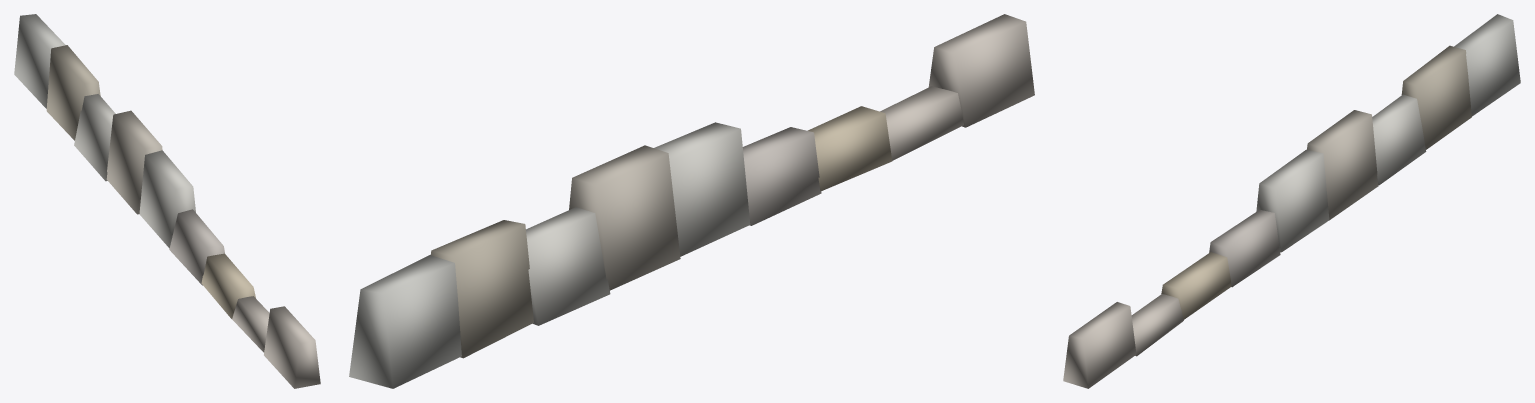
File: farm_7_26_far.glb
3 views of the same model, side by side, from view 1: azimuth 30°, elevation 25°; view 2: azimuth 150°, elevation 25°; view 3: azimuth 330°, elevation 25° (orthographic). The views are drawn at different scales.
Parts seen in each view (by area): view 1: geometry_0; view 2: geometry_0; view 3: geometry_0.
Boxes of the visible parts, x1,y1,x2,y2 form: geometry_0: (14,14,320,388); geometry_0: (349,14,1034,388); geometry_0: (1063,14,1520,388).
Bounding box in the file's own units: 2.08 × 2.48 × 14.
